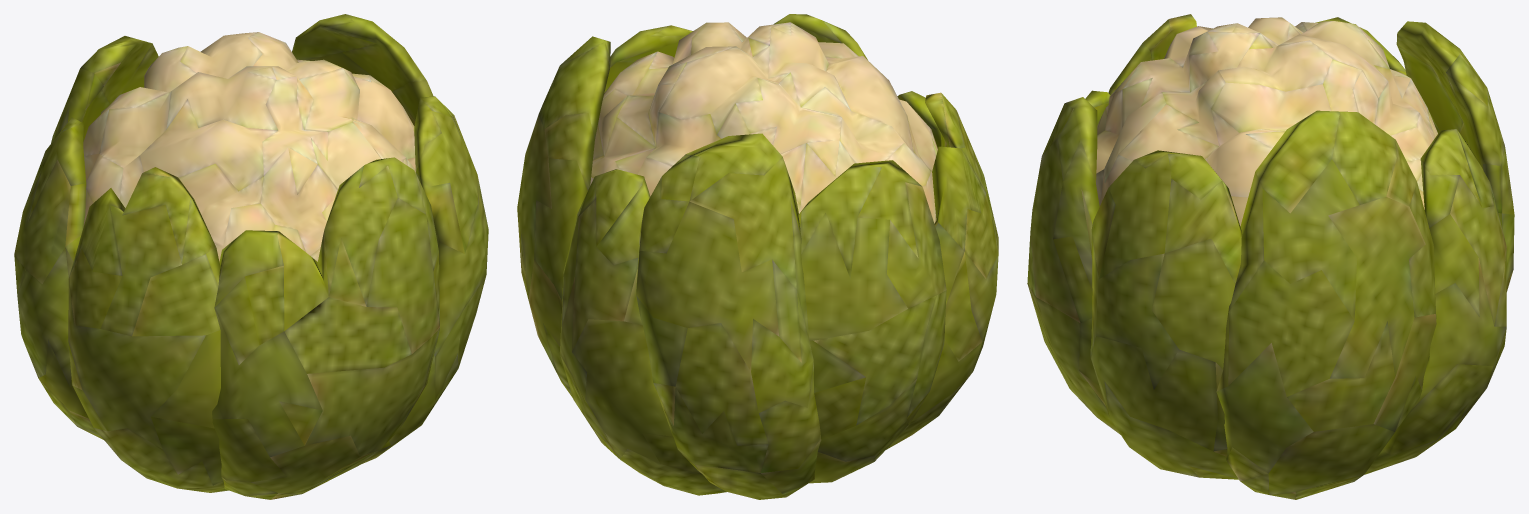
The model's file is cauliflower.glb.
3 views of the same model, side by side, from view 1: azimuth 30°, elevation 25°; view 2: azimuth 150°, elevation 25°; view 3: azimuth 270°, elevation 25° (orthographic). The views are drawn at different scales.
Parts seen in each view (by area): view 1: geometry_0; view 2: geometry_0; view 3: geometry_0.
Part boxes in pixels (x1,y1,x2,y2): geometry_0: (14, 14, 488, 499); geometry_0: (517, 14, 998, 499); geometry_0: (1027, 14, 1514, 499).
Bounding box in the file's own units: 1 × 0.9795 × 0.9931.
1 material, 1 textured.
